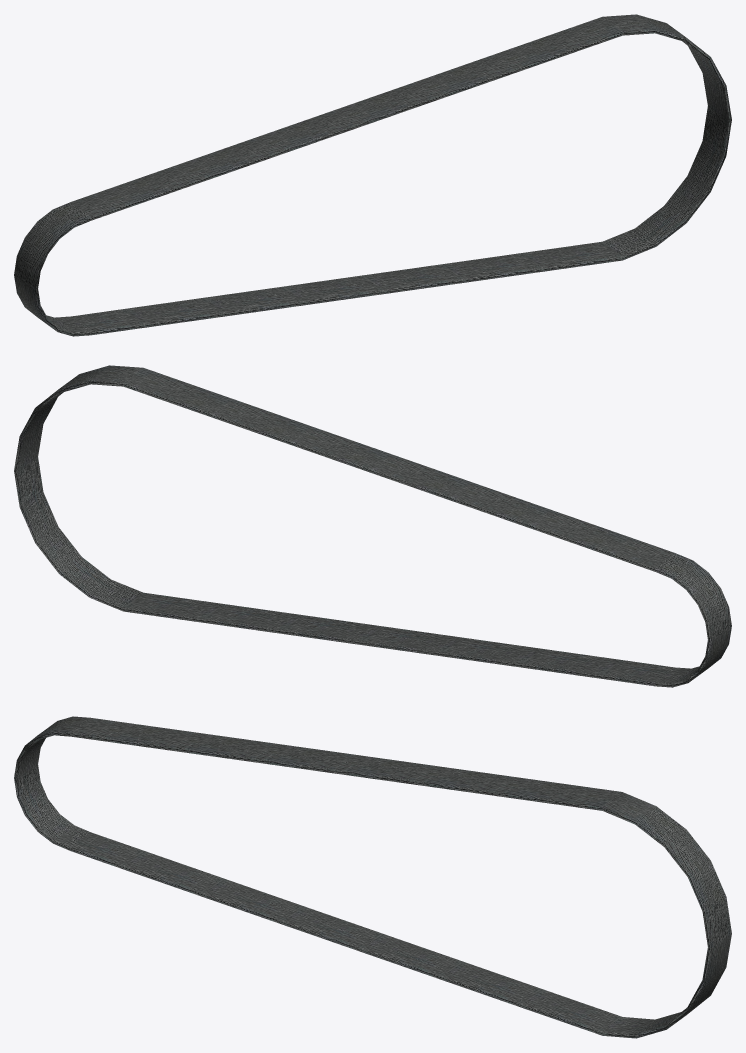
File: Belt.fbx
The picture shows the model from 3 angles, top to bottom: view 1: azimuth 30°, elevation 25°; view 2: azimuth 150°, elevation 25°; view 3: azimuth 330°, elevation 25°; orthographic projection.
Visible parts, largest first — view 1: Belt; view 2: Belt; view 3: Belt.
Part boxes in pixels (x1,y1,x2,y2): Belt: [14, 14, 731, 336]; Belt: [14, 365, 731, 687]; Belt: [14, 716, 731, 1038].
Size of the model in its own units: 13.13 by 4.12 by 0.6537.
